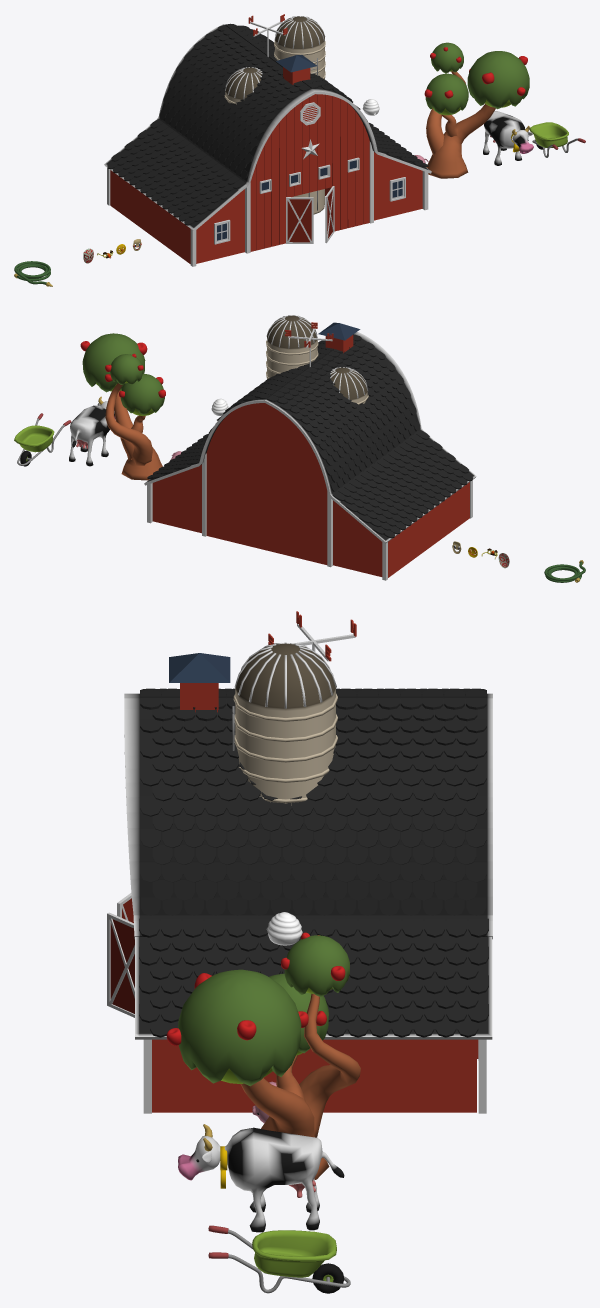
The model's file is Jessie_Props.glb.
3 views of the same model, one above another, from view 1: azimuth 30°, elevation 25°; view 2: azimuth 150°, elevation 25°; view 3: azimuth 270°, elevation 25° (orthographic). The views are drawn at different scales.
Parts seen in each view (by area): view 1: barn, tree, grain_silo, cow, wheelbarrow, hose; view 2: barn, tree, grain_silo, cow, wheelbarrow, hose; view 3: barn, tree, grain_silo, cow, wheelbarrow, beehive.
Part boxes in pixels (box(x1,y1,x2,y2)): barn: box(104, 14, 431, 266); tree: box(424, 42, 529, 178); grain_silo: box(224, 16, 325, 214); cow: box(483, 111, 533, 165); wheelbarrow: box(529, 122, 585, 157); hose: box(14, 261, 52, 286); barn: box(144, 322, 476, 580); tree: box(80, 333, 165, 480); grain_silo: box(266, 315, 368, 404); cow: box(69, 396, 115, 466); wheelbarrow: box(14, 413, 71, 466); hose: box(544, 560, 585, 582); barn: box(107, 611, 492, 1113); tree: box(166, 932, 360, 1179); grain_silo: box(232, 642, 337, 805); cow: box(178, 1124, 344, 1232); wheelbarrow: box(208, 1225, 350, 1293); beehive: box(266, 912, 302, 945).
Size of the model in its own units: 12.52 by 4.52 by 3.8.
